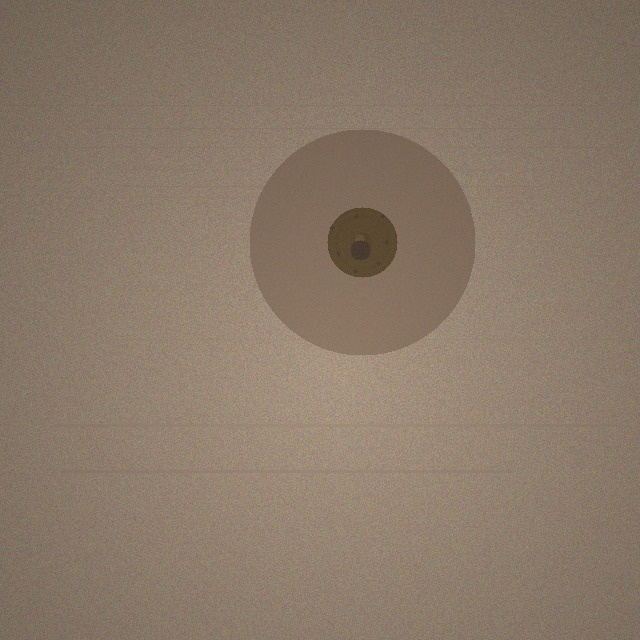cold_weld: (249, 129, 475, 355)
